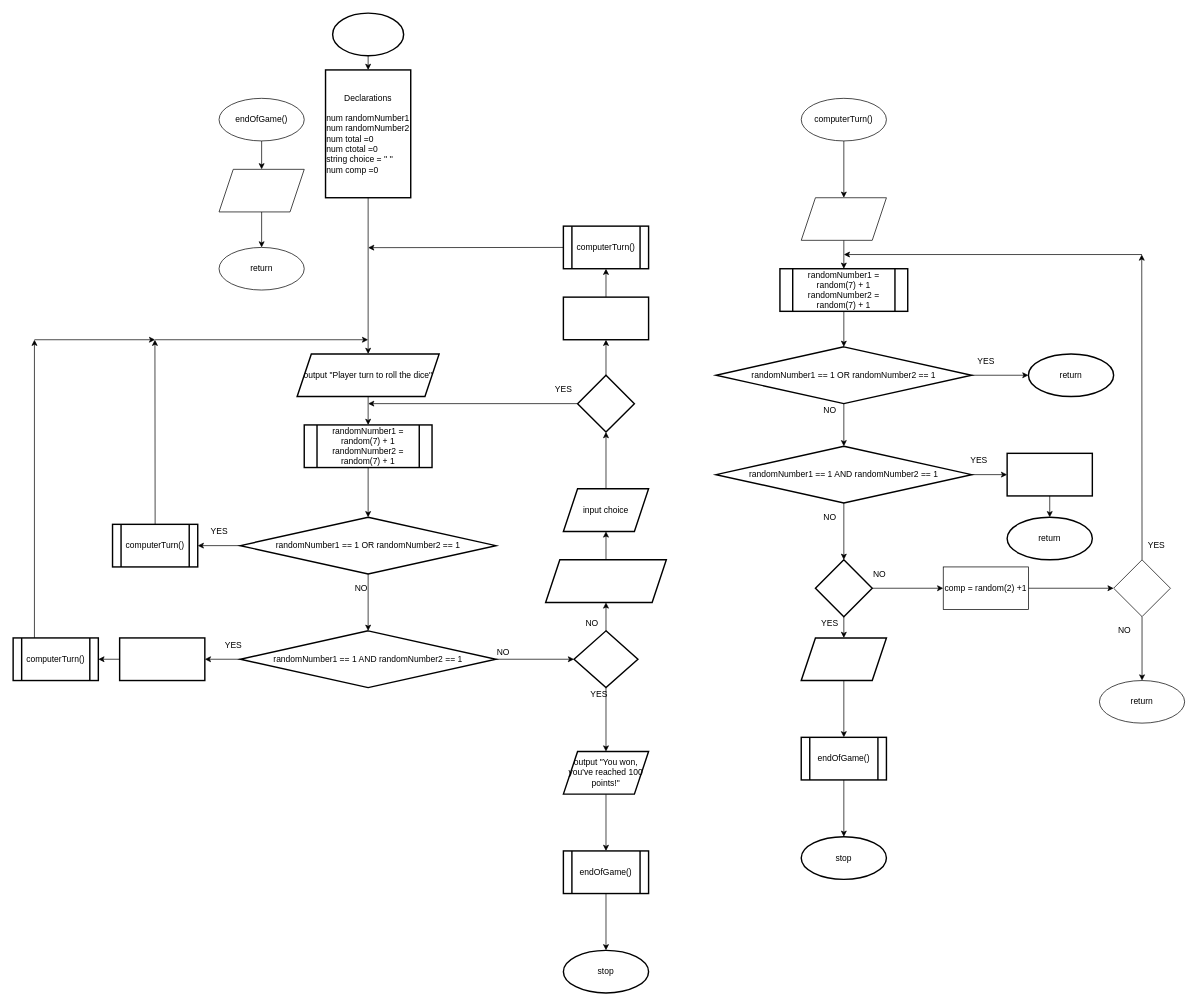
The diagram is 1197 pixels wide and 1005 high, and some of its shapes have lost their labels. Here are the shapes that lost their labels. From the top down, the centre of each, then its label:
point 368,34: start
point 261,190: output "Game Over"
point 843,218: output "Computer turn"
point 605,318: total += (randomNumber1 + randomNumber2)
point 606,403: choice == 'y'
point 1049,474: ctotal = 0
point 606,581: output "Roll again, or pass turn? y/n"
point 843,588: ctotal == 100
point 1141,588: comp == 1
point 162,659: total = 0
point 605,659: total == 100
point 843,659: output "Computer wins"
